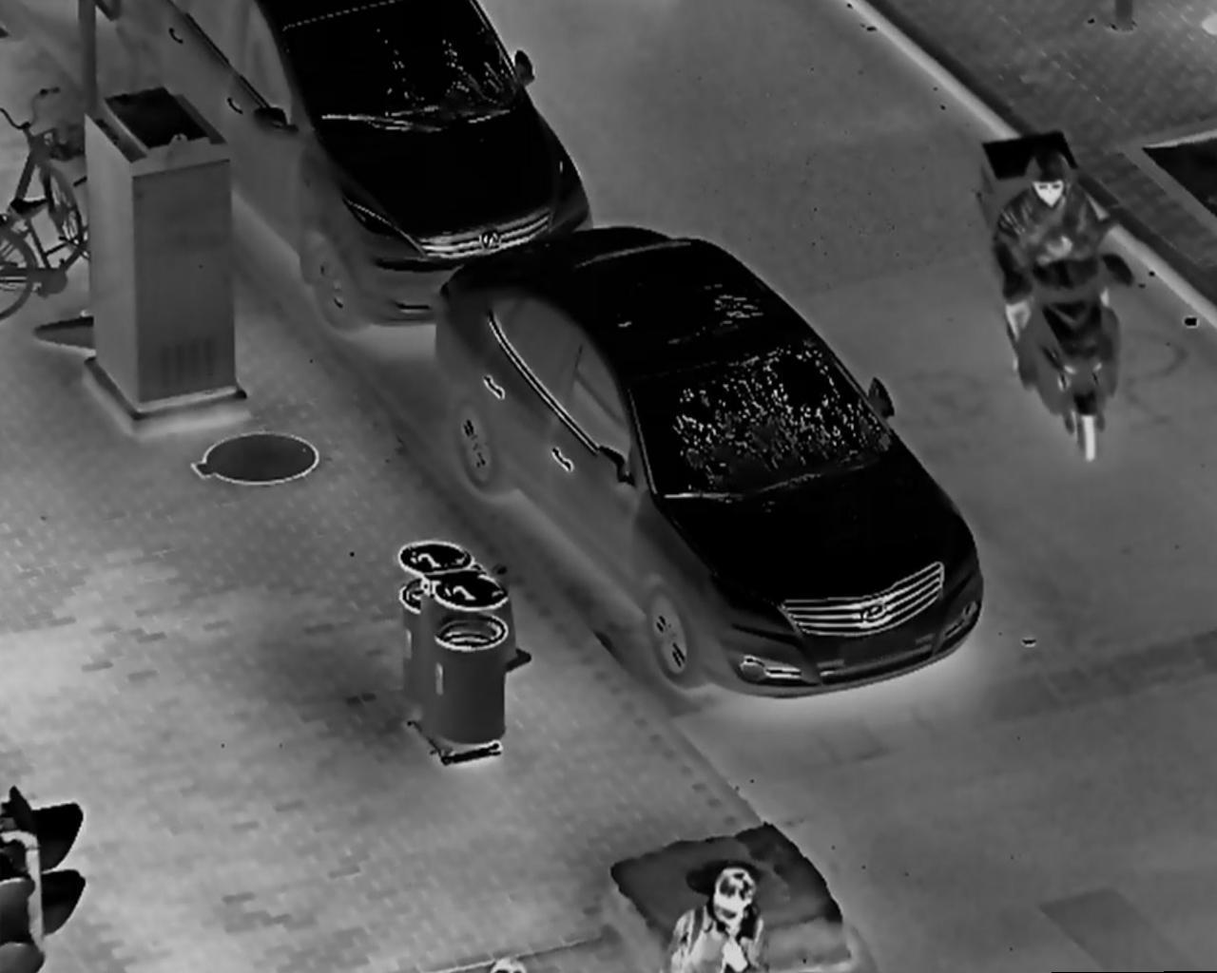person: (986, 156, 1120, 384), (666, 866, 769, 973), (488, 954, 530, 973)
